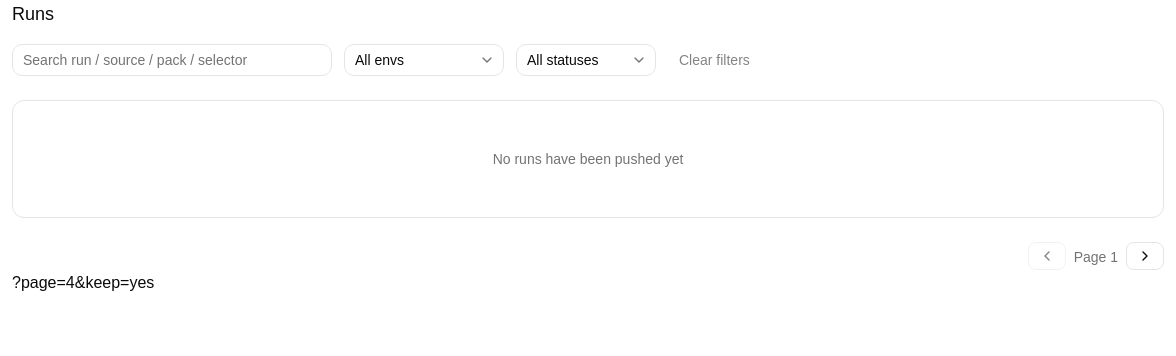
Test: resets the page when runs env changes
Expected: the text "No runs have been pushed yet" is shown, [493, 149, 683, 169]
What coordinates should you click on to do the following:
click the 2nd button named "Next"
I would click on:
 (1145, 256)
Its box is [1126, 242, 1164, 270].
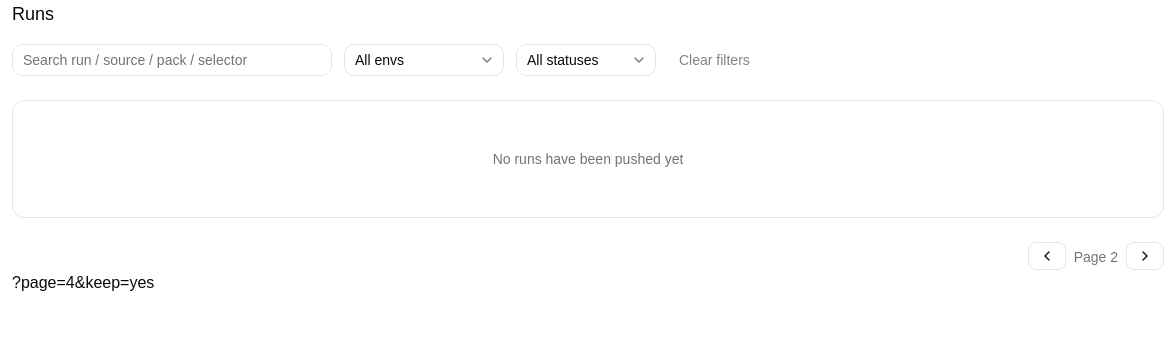
Expected: the text with test id "location" reads "?page=4&keep=yes", [12, 274, 154, 291]
What coordinates should you click on to do the following:
click the dropdown labelled "env"
I would click on:
 (424, 60)
Its box is [344, 44, 504, 76].
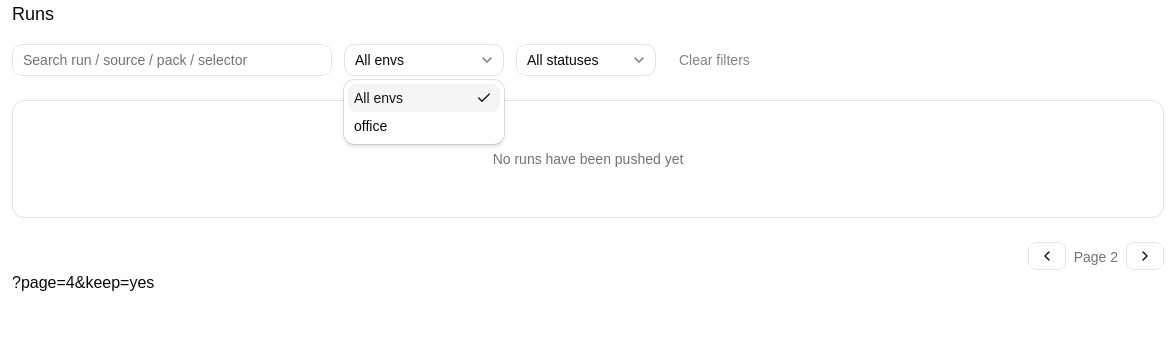
What coordinates should you click on to do the following:
click the option "office"
I would click on:
 (371, 126)
Its box is [354, 118, 387, 134].
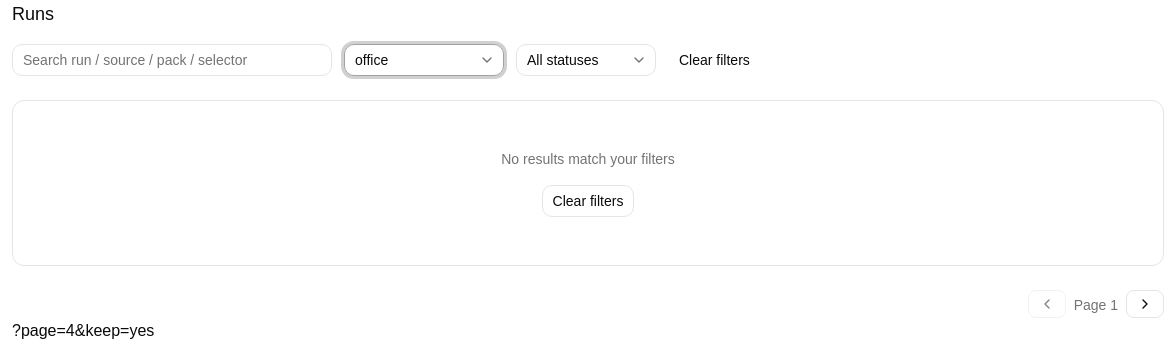
Expected: the text with test id "location" reads "?page=4&keep=yes", [12, 322, 154, 339]
Expected: the text "No results match your filters" is shown, [501, 149, 675, 169]
